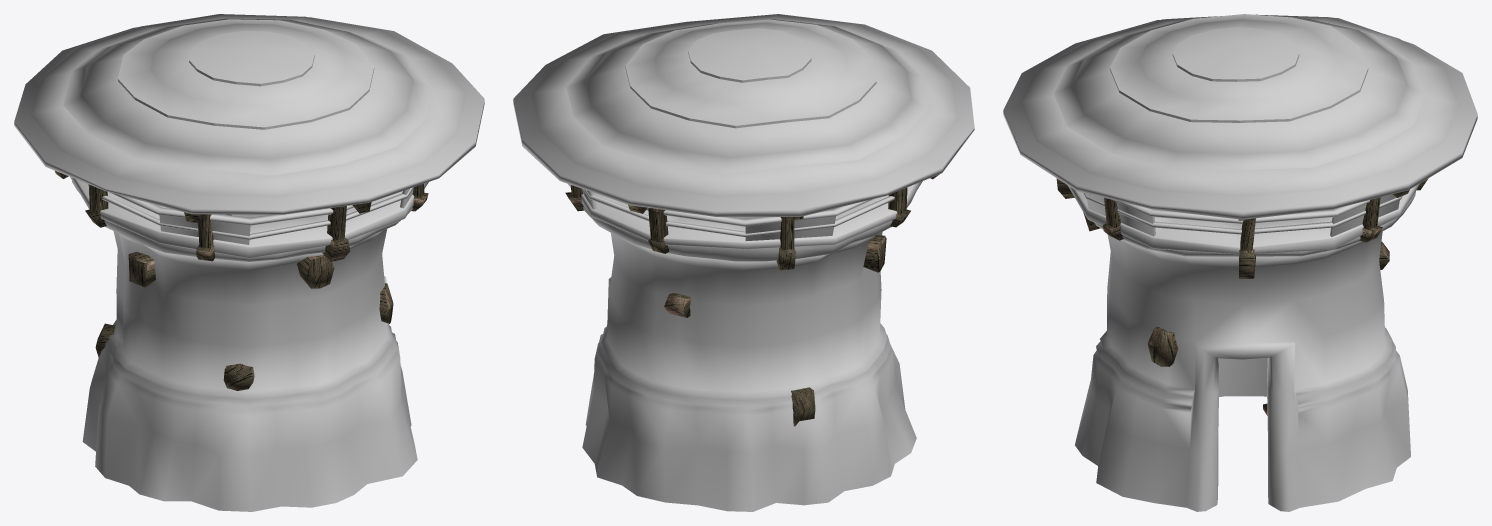
Rendered from RoundTower_High.FBX.
3 views of the same model, side by side, from view 1: azimuth 30°, elevation 25°; view 2: azimuth 150°, elevation 25°; view 3: azimuth 270°, elevation 25° (orthographic).
Visible parts, largest first — view 1: Tower_Roof, TowerR_Walls, ToerR_Balki; view 2: Tower_Roof, TowerR_Walls, ToerR_Balki; view 3: Tower_Roof, TowerR_Walls, ToerR_Balki.
Boxes of the visible parts, x1=… form: Tower_Roof: x1=14, y1=14, x2=484, y2=258; TowerR_Walls: x1=72, y1=181, x2=417, y2=511; ToerR_Balki: x1=55, y1=171, x2=428, y2=390; Tower_Roof: x1=513, y1=14, x2=974, y2=249; TowerR_Walls: x1=582, y1=193, x2=916, y2=511; ToerR_Balki: x1=565, y1=174, x2=939, y2=426; Tower_Roof: x1=1003, y1=14, x2=1477, y2=254; TowerR_Walls: x1=1075, y1=191, x2=1415, y2=511; ToerR_Balki: x1=1056, y1=178, x2=1428, y2=366.
Size of the model in its own units: 15.19 by 14.31 by 15.4.
